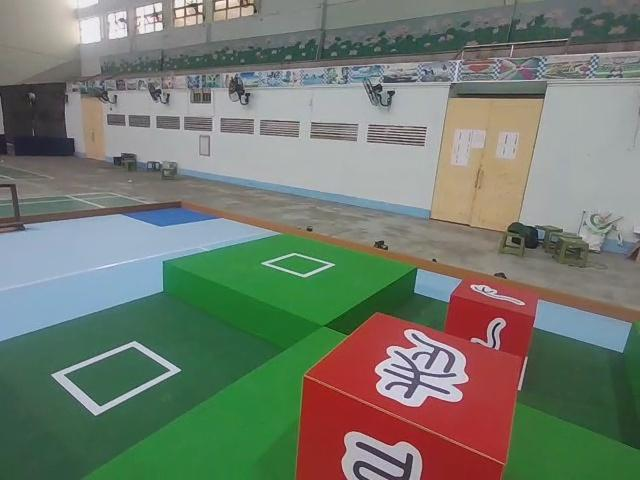R2 Fake: (295, 310, 522, 480)
